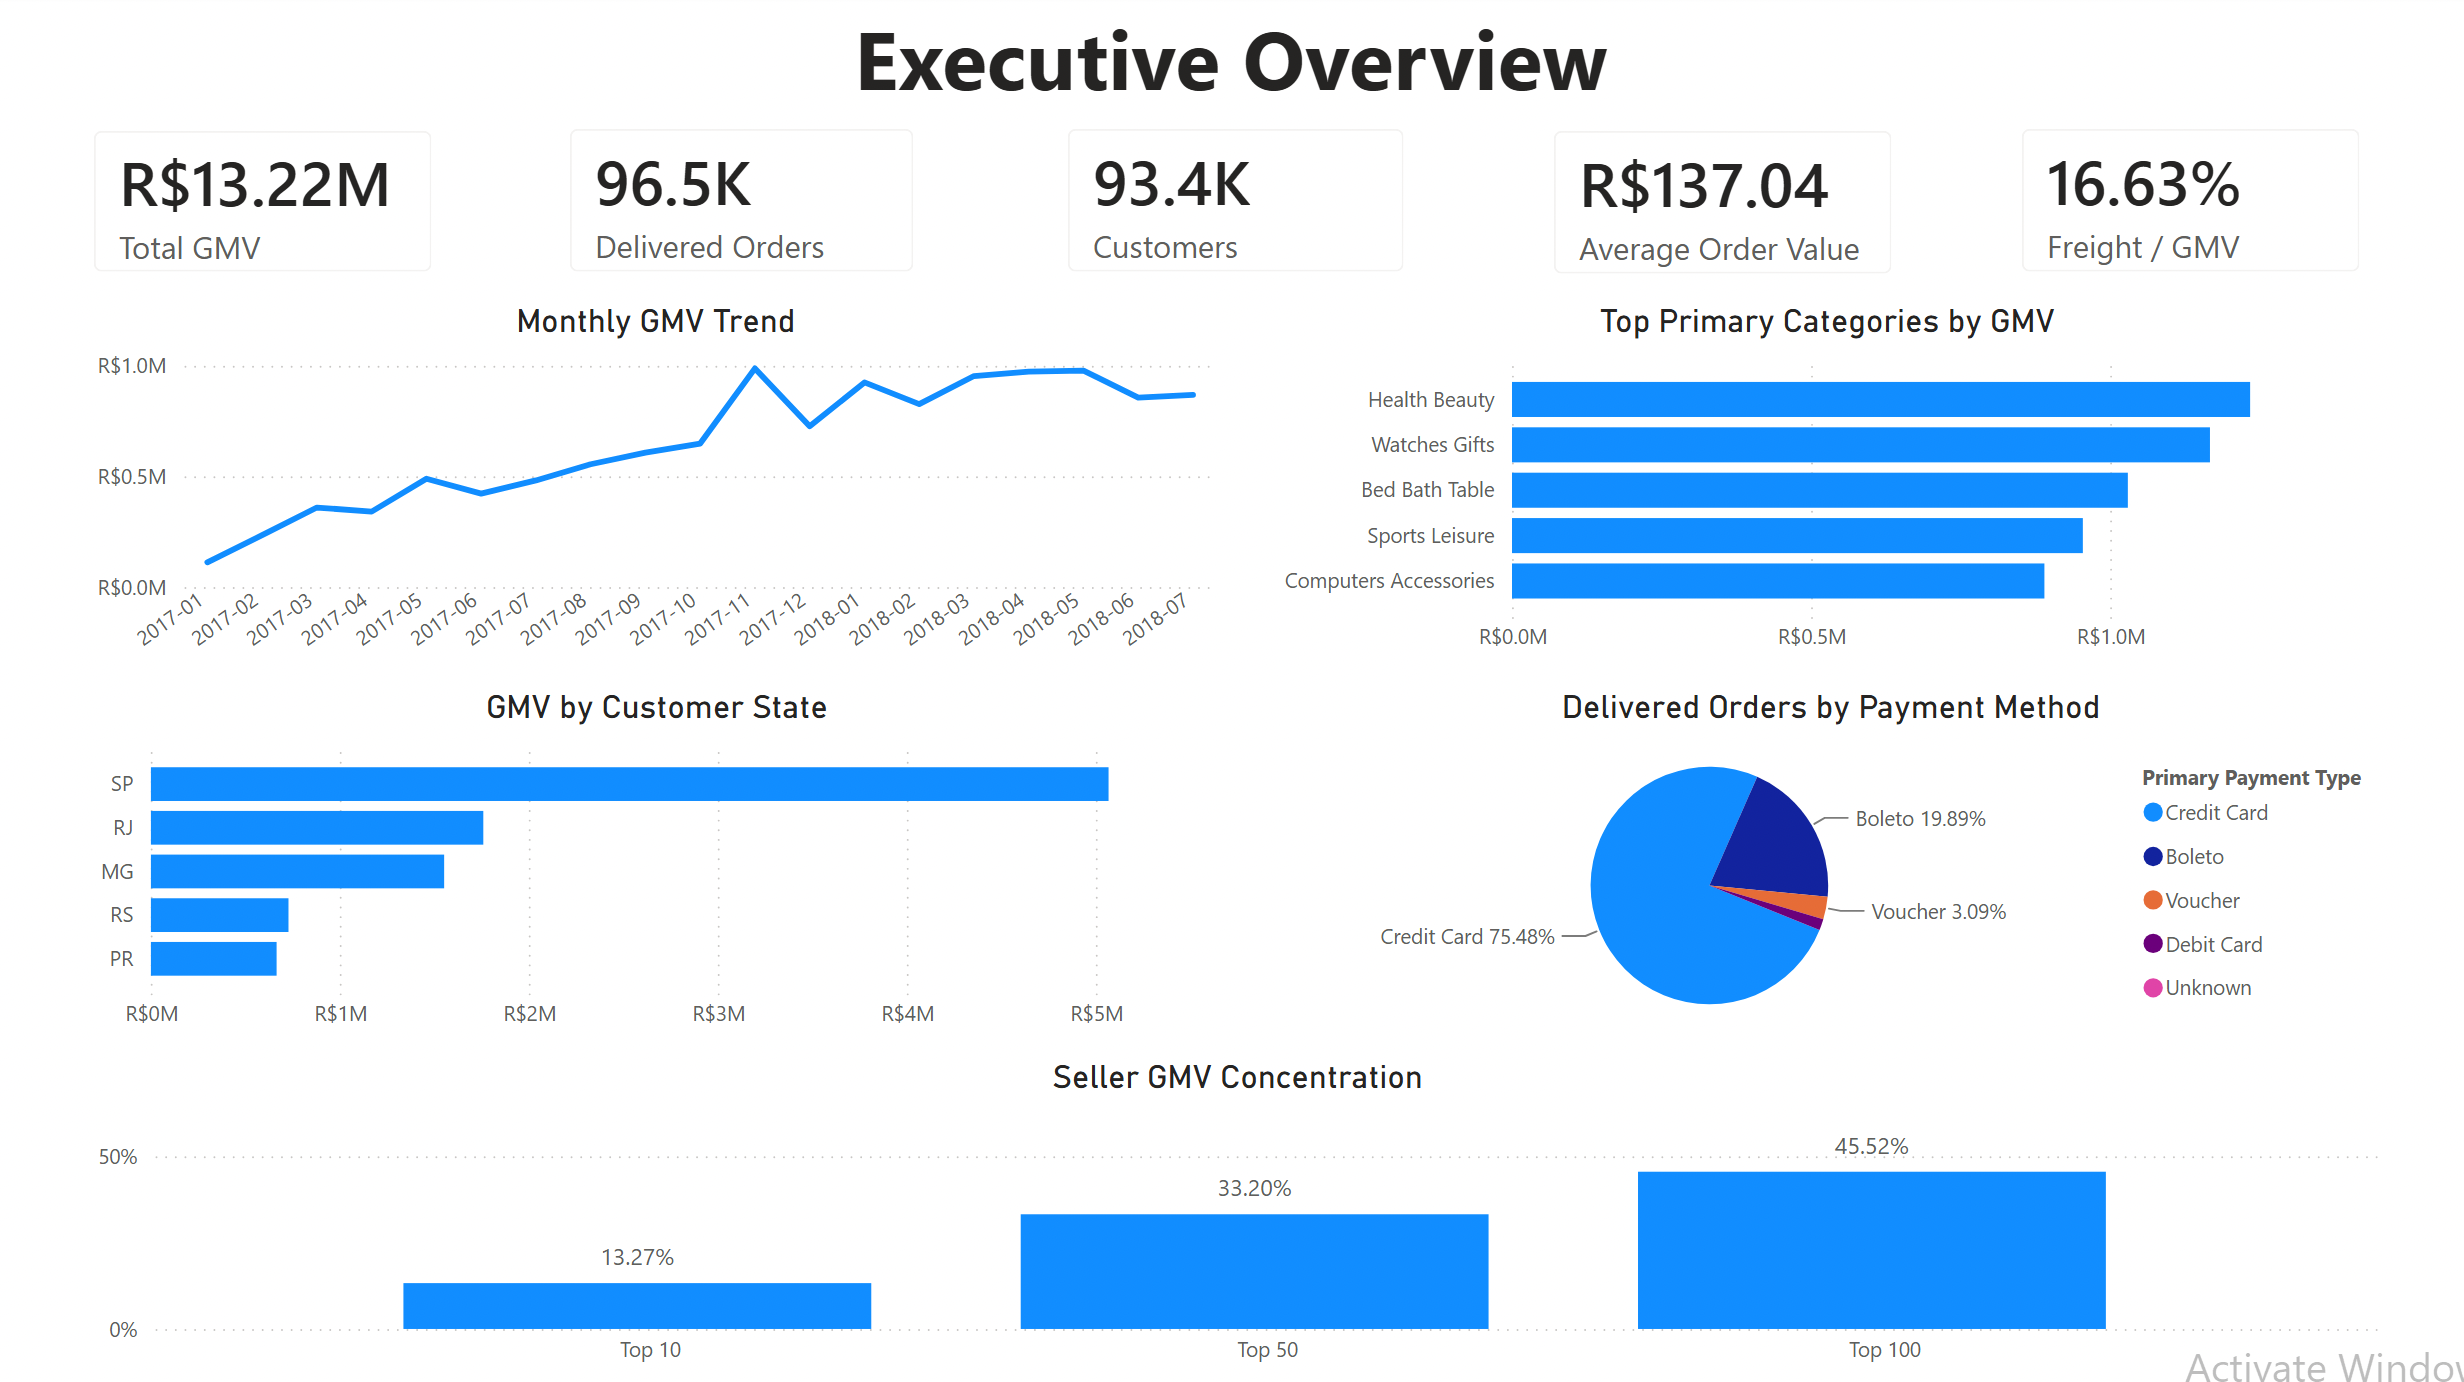

The dashboard page shown, as its layout file describes it:
{"tool":"powerbi","page":{"name":"Executive Overview","canvas":[1280,720],"ordinal":0},"visuals":[{"type":"cardVisual","fields":{"Data":["Measures .Delivered Orders"]},"box":[280.2,53.6,212.1,108.3],"z":0},{"type":"cardVisual","fields":{"Data":["Measures .Average Order Value"]},"box":[789.2,54.7,209.9,108.3],"z":1000},{"type":"cardVisual","fields":{"Data":["Measures .Total GMV"]},"box":[33.5,54.7,209.9,107.2],"z":2000},{"type":"cardVisual","fields":{"Data":["Measures .Customers"]},"box":[538,53.6,208.7,108.3],"z":3000},{"type":"cardVisual","fields":{"Data":["Measures .Freight / GMV"]},"box":[1031.4,53.6,209.9,108.3],"z":4000},{"type":"textbox","box":[371.7,0,534.7,69.2],"z":5000},{"type":"lineChart","title":"Monthly GMV Trend","fields":{"Category":["Date.Year Month"],"Y":["Measures .Total GMV"]},"box":[47,160.9,589.2,190.6],"z":6000},{"type":"clusteredBarChart","title":"Top Primary Categories by GMV","fields":{"Y":["Measures .Total GMV"],"Category":["order_dashboard.Primary Category Display"]},"box":[654.9,160.9,586.8,190.6],"z":7000},{"type":"clusteredBarChart","title":"GMV by Customer State","fields":{"Y":["Measures .Total GMV"],"Category":["order_dashboard.customer_state"]},"box":[47,360.2,590.5,185.7],"z":8000},{"type":"donutChart","title":"Delivered Orders by Payment Method","fields":{"Y":["Measures .Delivered Orders"],"Category":["order_dashboard.Payment Method Display"]},"box":[657.3,360.2,584.3,185.7],"z":9000},{"type":"clusteredColumnChart","title":"Seller GMV Concentration","fields":{"Category":["Seller Concentration.Seller Group"],"Y":["Sum(Seller Concentration.GMV Share)"]},"box":[47,552.1,1192.1,168.4],"z":10000}]}

Visuals, with their boxes on the page's 1280x720 design canvas (x1, y1, x2, y2). These are canvas units, not pixel positions in the 2464x1382 screenshot, which may show the page scaled, cropped or inside an application window:
cardVisual - Measures .Delivered Orders: pyautogui.locateOnScreen(280, 54, 492, 162)
cardVisual - Measures .Average Order Value: pyautogui.locateOnScreen(789, 55, 999, 163)
cardVisual - Measures .Total GMV: pyautogui.locateOnScreen(34, 55, 243, 162)
cardVisual - Measures .Customers: pyautogui.locateOnScreen(538, 54, 747, 162)
cardVisual - Measures .Freight / GMV: pyautogui.locateOnScreen(1031, 54, 1241, 162)
textbox: pyautogui.locateOnScreen(372, 0, 906, 69)
"Monthly GMV Trend" lineChart: pyautogui.locateOnScreen(47, 161, 636, 352)
"Top Primary Categories by GMV" clusteredBarChart: pyautogui.locateOnScreen(655, 161, 1242, 352)
"GMV by Customer State" clusteredBarChart: pyautogui.locateOnScreen(47, 360, 638, 546)
"Delivered Orders by Payment Method" donutChart: pyautogui.locateOnScreen(657, 360, 1242, 546)
"Seller GMV Concentration" clusteredColumnChart: pyautogui.locateOnScreen(47, 552, 1239, 720)
